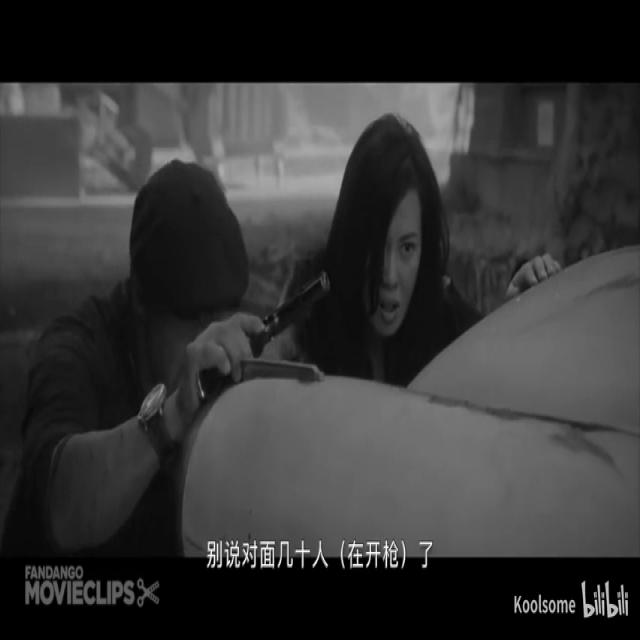Hand-Gun: (156, 233, 364, 473)
